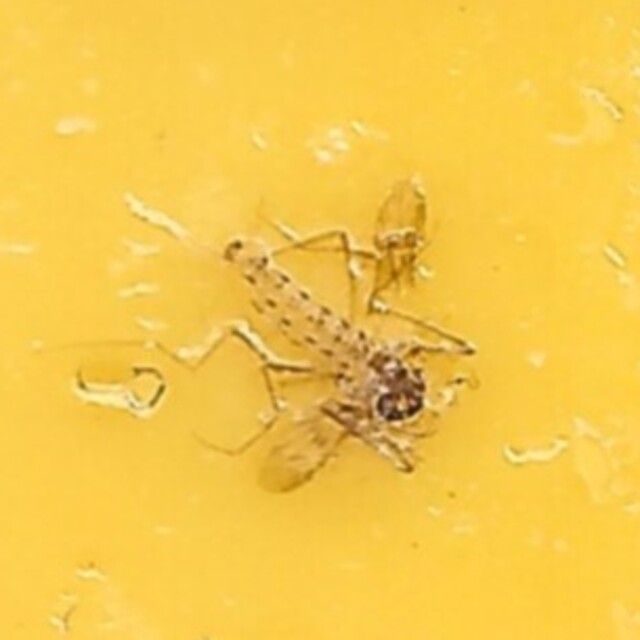Nematocera: (210, 210, 430, 430)
